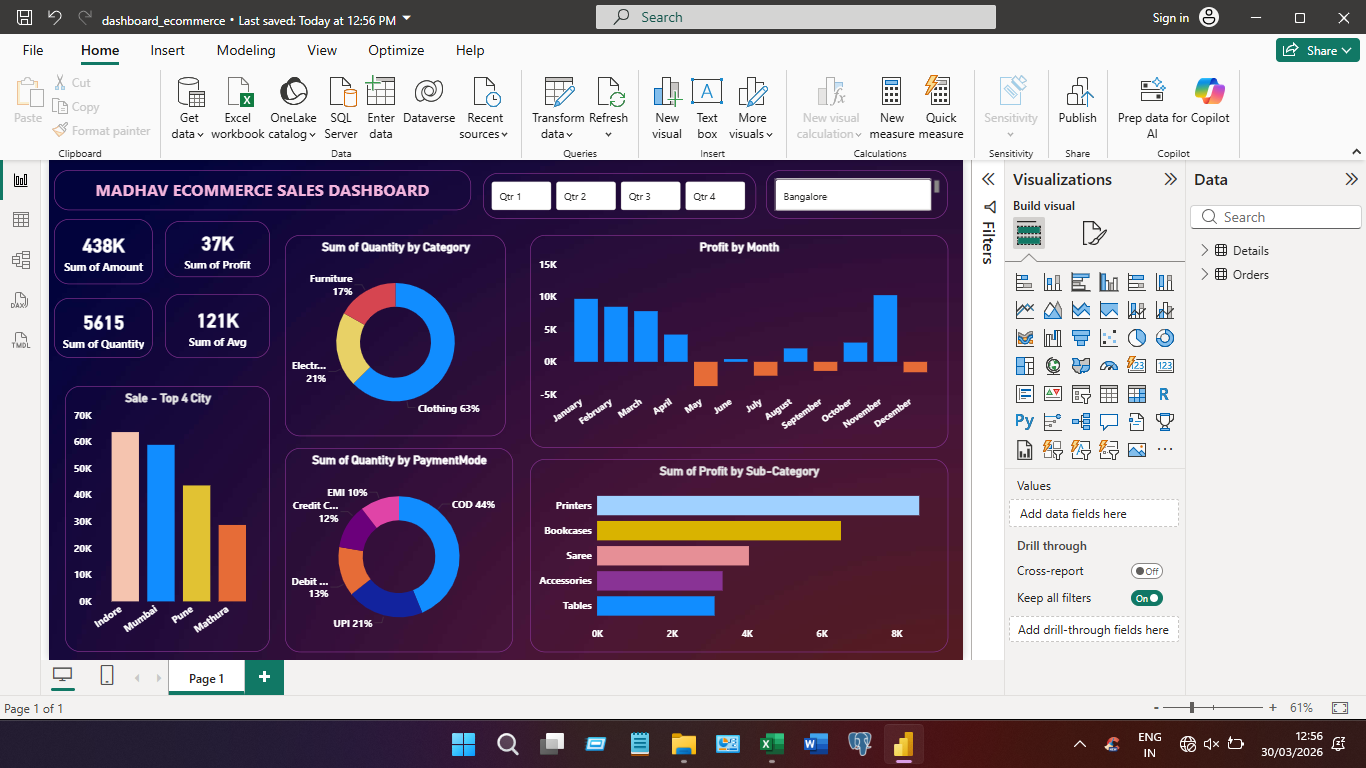

This screenshot's page, from the dashboard's own definition file:
{"tool":"powerbi","page":{"name":"Page 1","canvas":[1500,820],"ordinal":0},"visuals":[{"type":"textbox","box":[8.2,16.4,683.9,65.6],"z":0},{"type":"columnChart","title":"Profit by Month","fields":{"Category":["Orders.Order Date.Variation.Date Hierarchy.Month"],"Y":["Sum(Details.Profit)"]},"box":[788.8,123,685.5,349.3],"z":1000},{"type":"barChart","fields":{"Category":["Details.Sub-Category"],"Y":["Sum(Details.Profit)"]},"box":[788.8,490.4,685.5,316.5],"z":2000},{"type":"donutChart","fields":{"Category":["Details.Category"],"Y":["Sum(Details.Quantity)"]},"box":[387,123,362.4,329.6],"z":3000},{"type":"donutChart","fields":{"Y":["Sum(Details.Quantity)"],"Category":["Details.PaymentMode"]},"box":[387,472.3,373.9,334.6],"z":4000},{"type":"card","fields":{"Values":["Sum(Details.Amount)"]},"box":[8.2,96.8,162.4,106.6],"z":5000},{"type":"card","fields":{"Values":["Sum(Details.Quantity)"]},"box":[8.2,226.3,162.4,98.4],"z":6000},{"type":"card","fields":{"Values":["Sum(Details.Profit)"]},"box":[190.2,100,172.2,91.8],"z":7000},{"type":"card","fields":{"Values":["Sum(Details.Avg)"]},"box":[190.2,219.8,172.2,105],"z":8000},{"type":"clusteredColumnChart","title":"Sale - Top 4 City","fields":{"Category":["Orders.City"],"Y":["Sum(Details.Amount)"]},"box":[26.2,370.6,336.2,436.2],"z":9000},{"type":"advancedSlicerVisual","fields":{"Values":["Orders.Order Date.Variation.Date Hierarchy.Quarter"]},"box":[711.8,21.3,447.7,75.4],"z":10000},{"type":"advancedSlicerVisual","fields":{"Values":["Orders.City"]},"box":[1175.9,16.4,298.5,80.4],"z":11000}]}

Visuals, with their boxes on the page's 1500x820 design canvas (x1, y1, x2, y2). These are canvas units, not pixel positions in the 1366x768 screenshot, which may show the page scaled, cropped or inside an application window:
textbox: {"x1": 8, "y1": 16, "x2": 692, "y2": 82}
"Profit by Month" columnChart: {"x1": 789, "y1": 123, "x2": 1474, "y2": 472}
barChart - Details.Sub-Category x Sum(Details.Profit): {"x1": 789, "y1": 490, "x2": 1474, "y2": 807}
donutChart - Details.Category x Sum(Details.Quantity): {"x1": 387, "y1": 123, "x2": 749, "y2": 453}
donutChart - Sum(Details.Quantity) x Details.PaymentMode: {"x1": 387, "y1": 472, "x2": 761, "y2": 807}
card - Sum(Details.Amount): {"x1": 8, "y1": 97, "x2": 171, "y2": 203}
card - Sum(Details.Quantity): {"x1": 8, "y1": 226, "x2": 171, "y2": 325}
card - Sum(Details.Profit): {"x1": 190, "y1": 100, "x2": 362, "y2": 192}
card - Sum(Details.Avg): {"x1": 190, "y1": 220, "x2": 362, "y2": 325}
"Sale - Top 4 City" clusteredColumnChart: {"x1": 26, "y1": 371, "x2": 362, "y2": 807}
advancedSlicerVisual - Orders.Order Date.Variation.Date Hierarchy.Quarter: {"x1": 712, "y1": 21, "x2": 1160, "y2": 97}
advancedSlicerVisual - Orders.City: {"x1": 1176, "y1": 16, "x2": 1474, "y2": 97}
